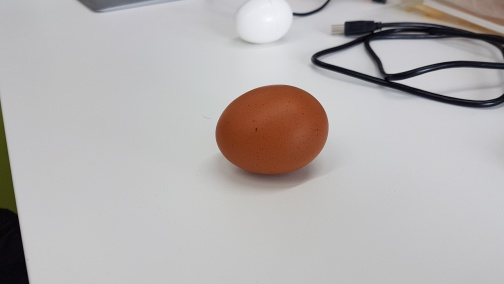egg: (213, 82, 333, 177), (231, 1, 295, 44)
